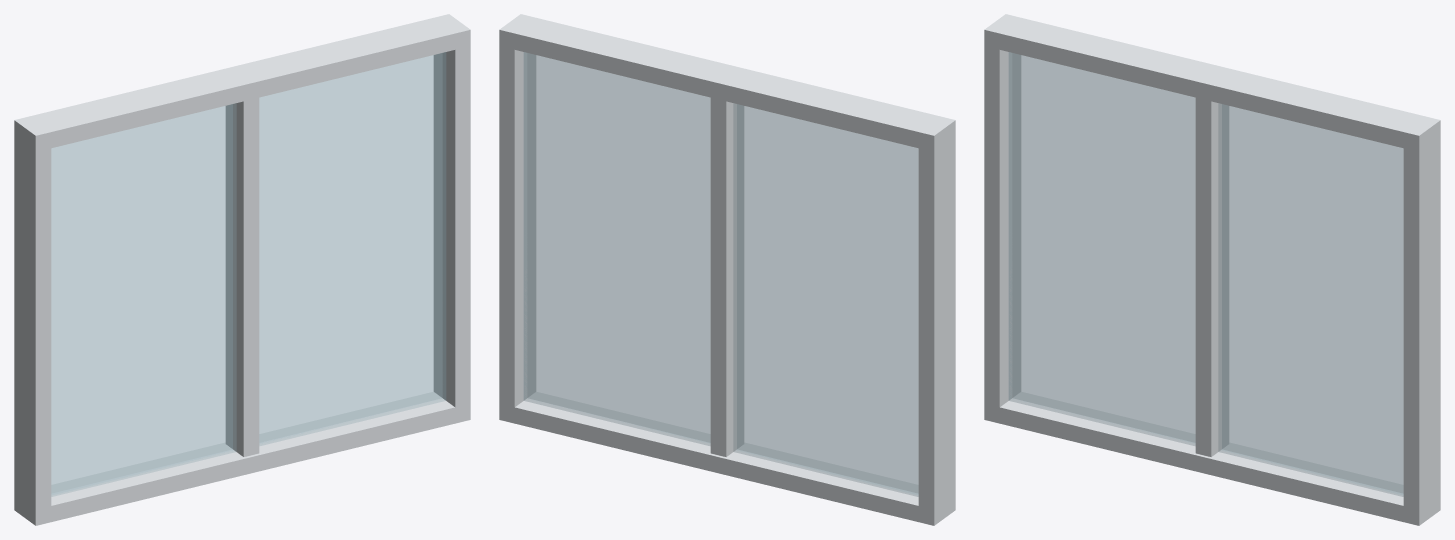
The picture shows the model from 3 angles, left to right: view 1: azimuth 30°, elevation 25°; view 2: azimuth 150°, elevation 25°; view 3: azimuth 330°, elevation 25°; orthographic projection.
Parts seen in each view (by area): view 1: glass, frame (×5); view 2: glass, frame (×5); view 3: glass, frame (×5).
Boxes of the visible parts, box(x1,y1,x2,y2) form: glass: box(51, 52, 446, 496); frame (×5): box(14, 14, 470, 525); glass: box(523, 52, 918, 496); frame (×5): box(499, 14, 955, 525); glass: box(1008, 52, 1403, 496); frame (×5): box(984, 14, 1440, 525).
Bounding box in the file's own units: 1.4 × 1.2 × 0.12.
